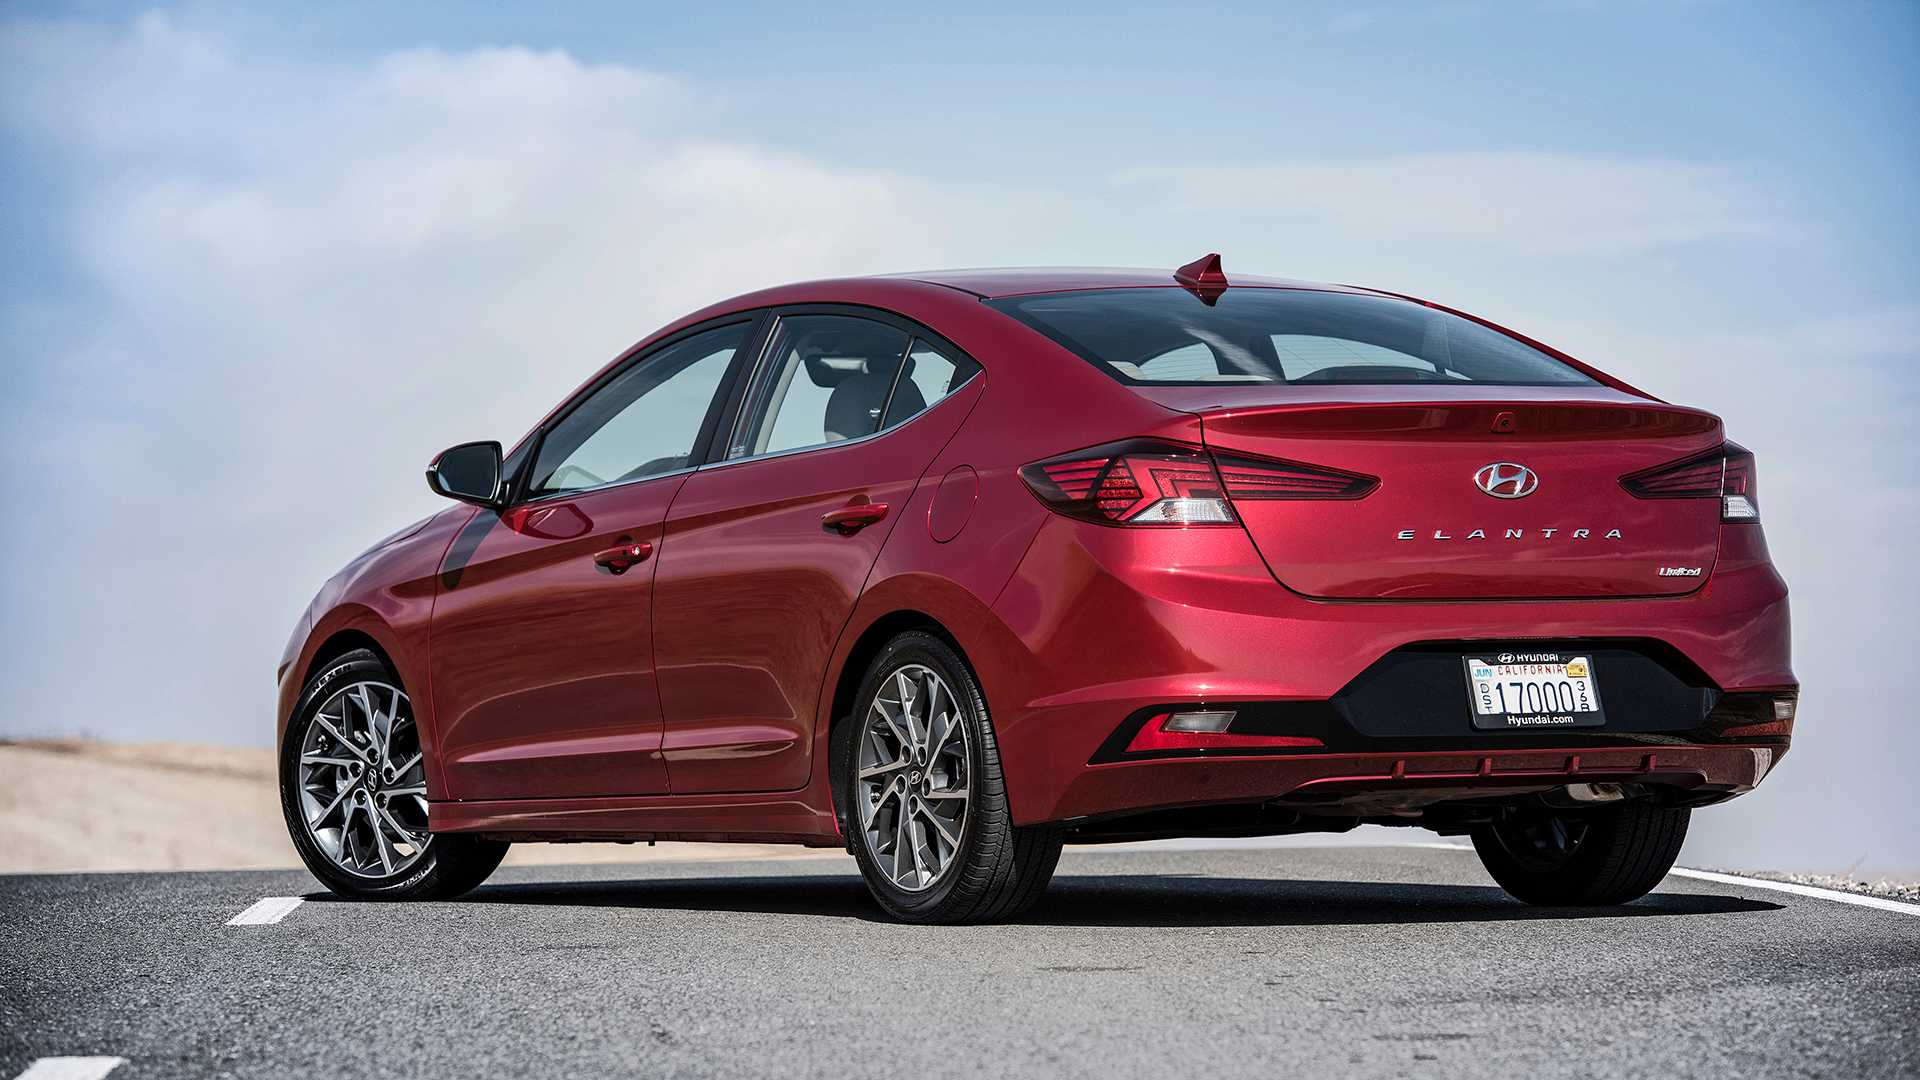elantra: (210, 235, 1850, 945)
